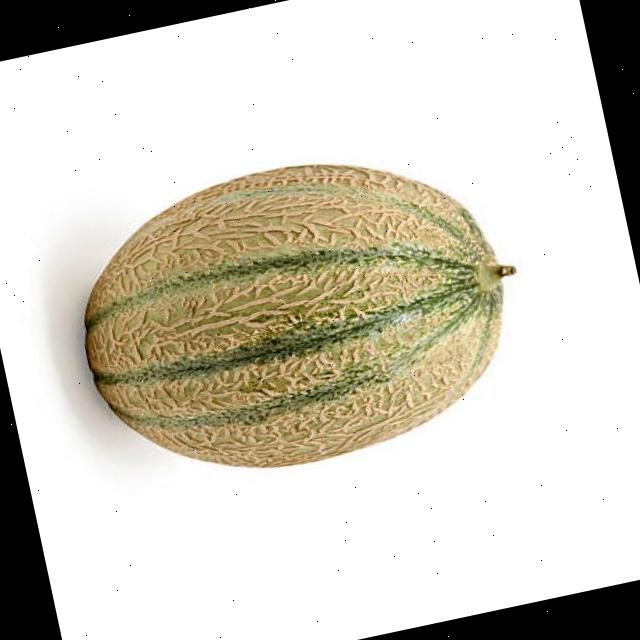Hami Melon: (52, 128, 528, 504)
